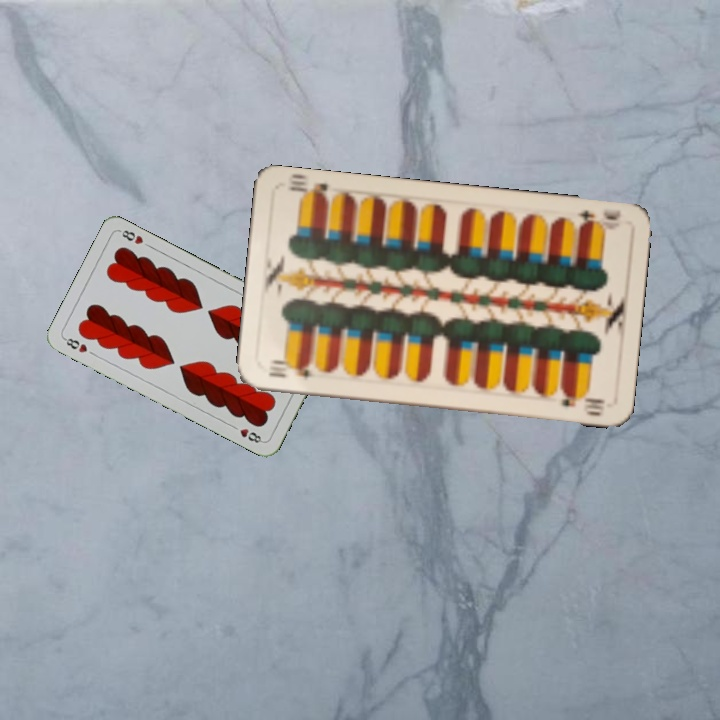E10: (572, 205, 624, 231), (264, 359, 312, 381)
H8: (60, 334, 90, 355)
